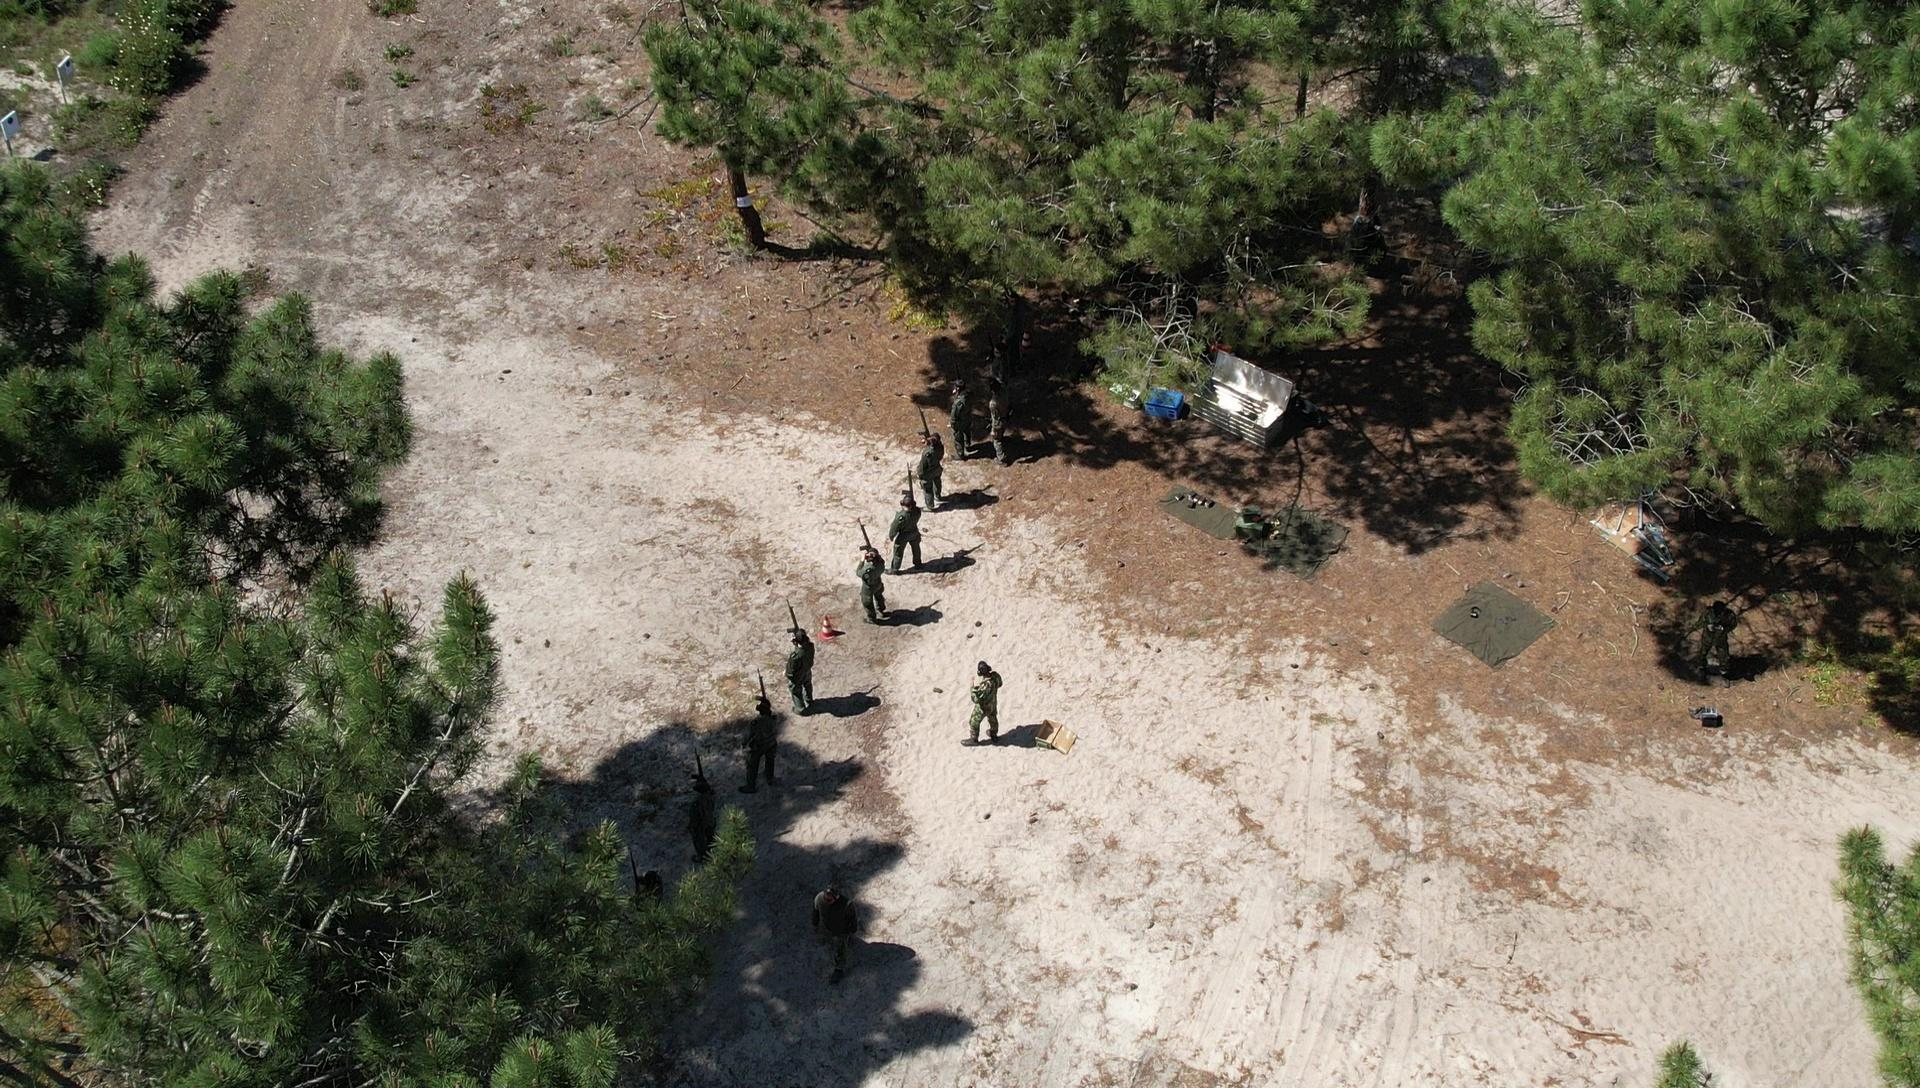Soldier: (735, 677, 791, 808), (1688, 597, 1742, 698), (852, 531, 895, 642), (781, 619, 824, 728), (816, 873, 861, 979), (910, 396, 949, 509), (889, 473, 928, 584), (947, 369, 992, 458), (980, 419, 1022, 510), (965, 661, 1007, 750), (680, 766, 723, 853)
